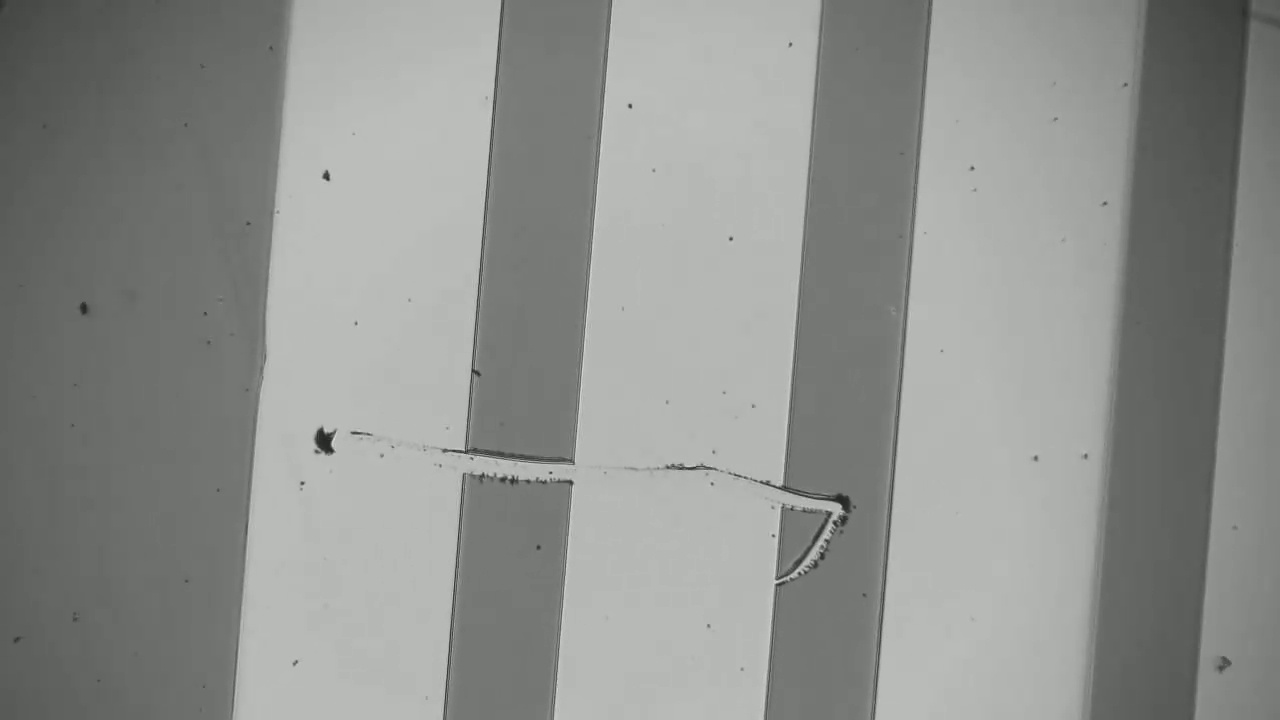Short_circuit: (418, 438, 590, 509), (746, 460, 918, 527)
